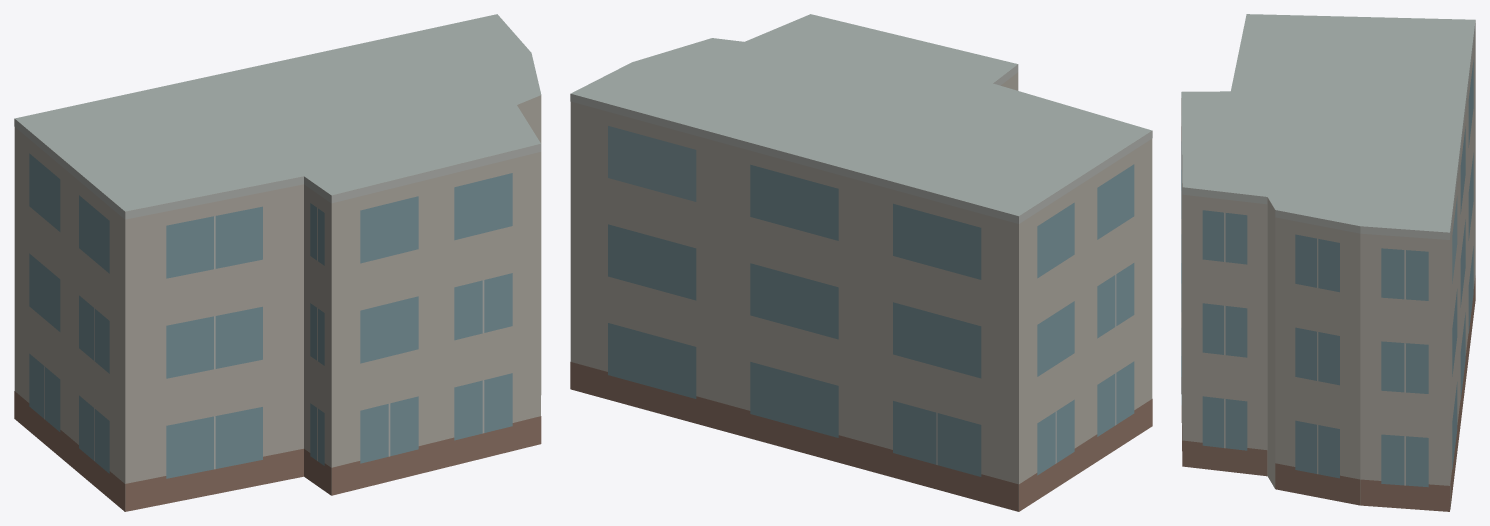
File: survey-upis-32835435.glb
3 renders of one model, left to right at view 1: azimuth 30°, elevation 25°; view 2: azimuth 150°, elevation 25°; view 3: azimuth 270°, elevation 25°, orthographic. The views are drawn at different scales.
Parts seen in each view (by area): view 1: survey-upis-32835435.tmp; view 2: survey-upis-32835435.tmp; view 3: survey-upis-32835435.tmp.
Part boxes in pixels (bbox=[...]): survey-upis-32835435.tmp: bbox=[14, 14, 541, 511]; survey-upis-32835435.tmp: bbox=[570, 14, 1152, 511]; survey-upis-32835435.tmp: bbox=[1181, 14, 1475, 511].
Bounding box in the file's own units: 15.37 × 9.15 × 8.75.
